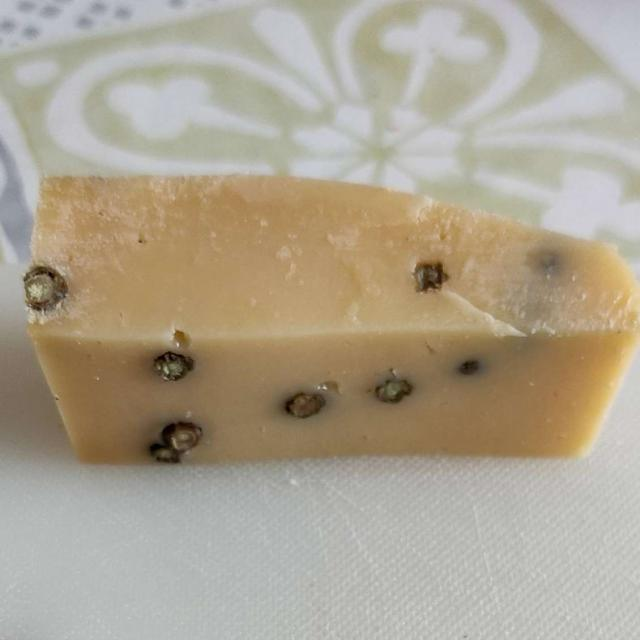cheese: (35, 170, 626, 465)
